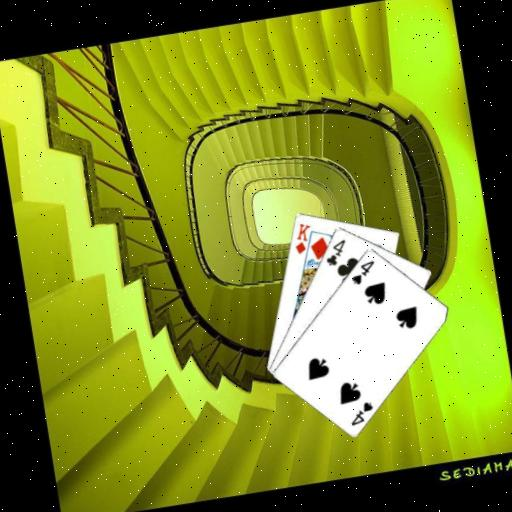4C: (320, 235, 351, 268)
4S: (345, 256, 378, 287), (344, 397, 377, 428)
KD: (287, 218, 315, 256)
